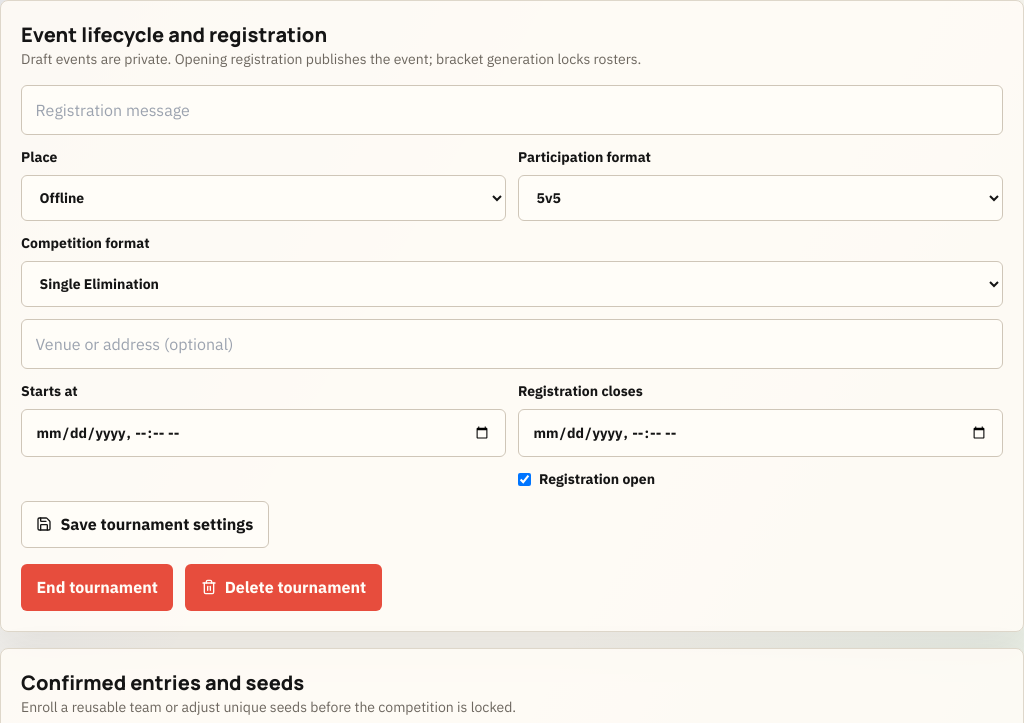
Test case: TournamentOperations competition format › lets staff change an existing event to every compatible bracket format
Step 1. Select "Swiss" in the dropdown labelled "Competition format" → [512, 284], box [21,261,1003,307]
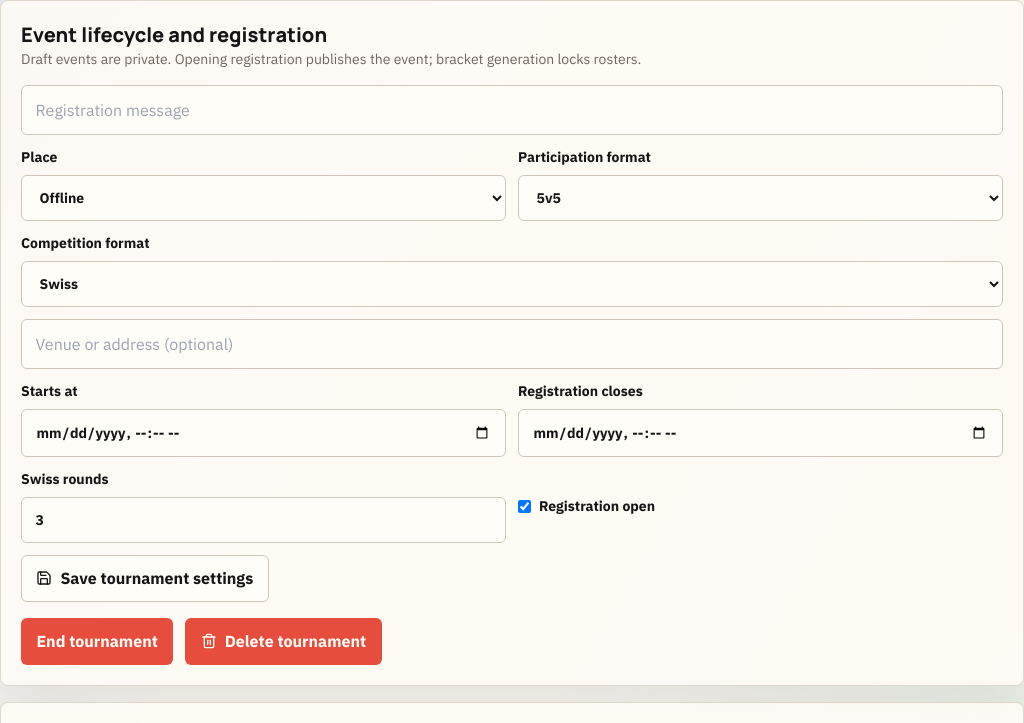
Result: the number field labelled "Swiss rounds" holds "3" at [21,497,506,543]
